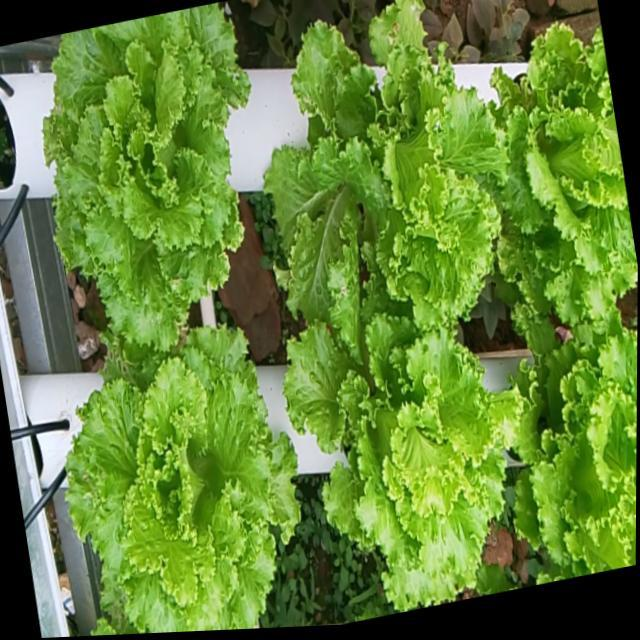Mature: (262, 0, 504, 331), (281, 275, 518, 612), (63, 326, 297, 636), (40, 3, 248, 350), (489, 24, 638, 323), (514, 311, 637, 576)
